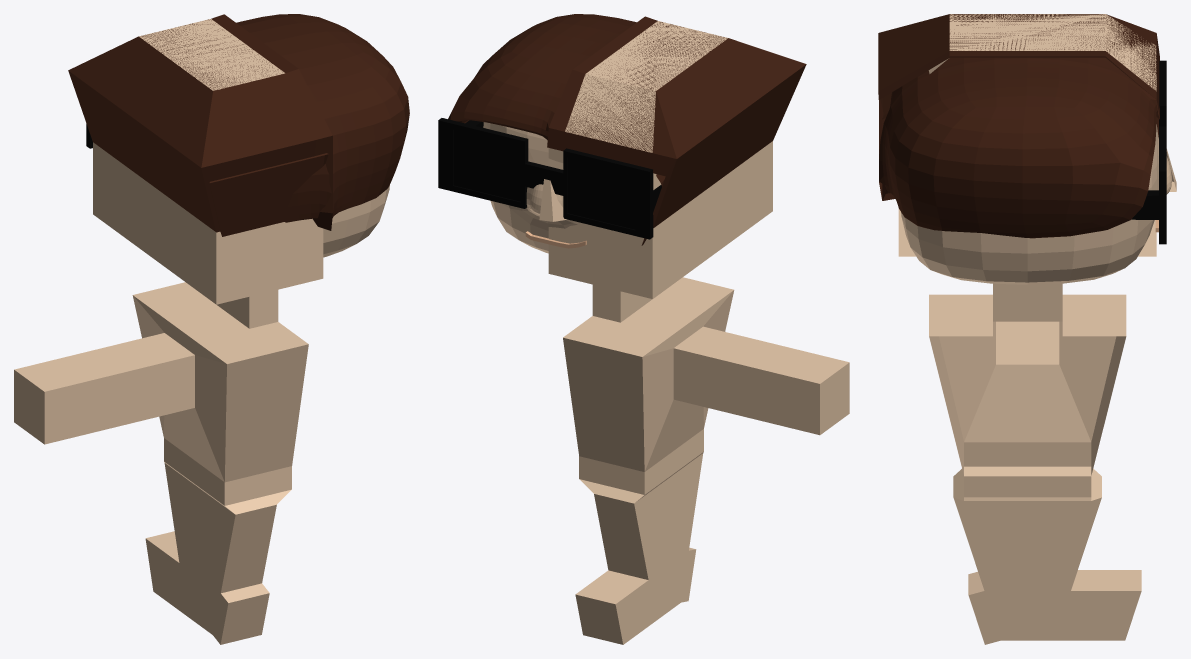
Rendered from loading-test.gltf.
The picture shows the model from 3 angles, left to right: view 1: azimuth 30°, elevation 25°; view 2: azimuth 150°, elevation 25°; view 3: azimuth 270°, elevation 25°; orthographic projection. The views are drawn at different scales.
Visible parts, largest first — view 1: Cube.003, Cube.005, Cube.002; view 2: Cube.003, Cube.002, Cube.005, Cube.004; view 3: Cube.003, Cube.002, Cube.005, Cube.004.
Part boxes in pixels (x1=…): Cube.003: x1=14, y1=19, x2=323, y2=644; Cube.005: x1=68, y1=14, x2=332, y2=236; Cube.002: x1=86, y1=14, x2=409, y2=257; Cube.003: x1=539, y1=21, x2=849, y2=644; Cube.002: x1=438, y1=14, x2=665, y2=253; Cube.005: x1=547, y1=16, x2=806, y2=245; Cube.004: x1=438, y1=121, x2=545, y2=207; Cube.003: x1=898, y1=14, x2=1176, y2=644; Cube.002: x1=879, y1=57, x2=1171, y2=284; Cube.005: x1=878, y1=14, x2=1159, y2=200; Cube.004: x1=1132, y1=166, x2=1166, y2=244.
Size of the model in its own units: 3.28 by 5.12 by 2.31.
